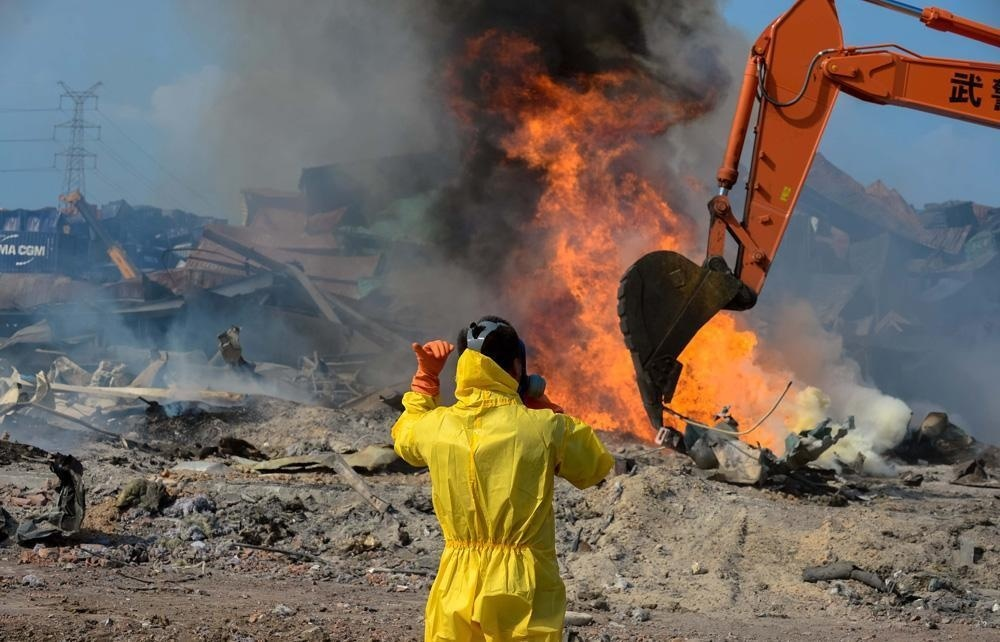fire: (497, 51, 815, 449)
